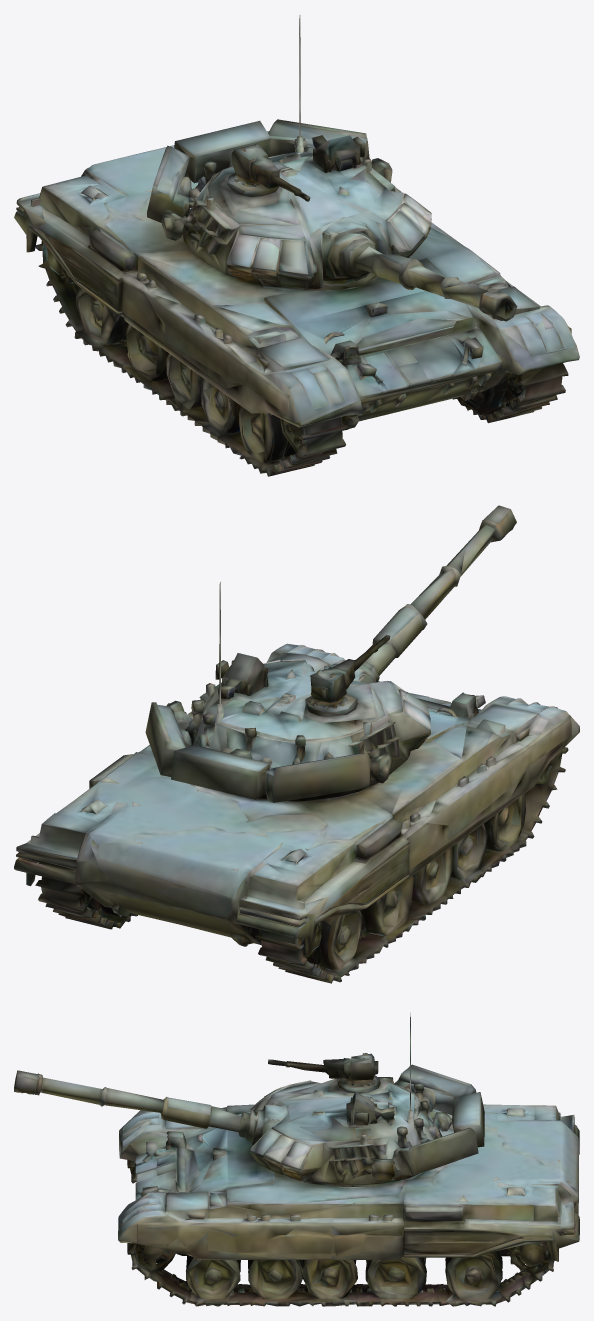
The model's file is t72_opt.glb.
3 views of the same model, one above another, from view 1: azimuth 30°, elevation 25°; view 2: azimuth 150°, elevation 25°; view 3: azimuth 270°, elevation 25° (orthographic). The views are drawn at different scales.
Visible parts, largest first — view 1: node_0; view 2: node_0; view 3: node_0.
Boxes of the visible parts, <box> form: node_0: <box>14,15,579,476</box>; node_0: <box>14,505,579,983</box>; node_0: <box>14,1012,579,1306</box>.
Size of the model in its own units: 0.5109 by 0.5371 by 1.07.
1 material, 1 textured.
